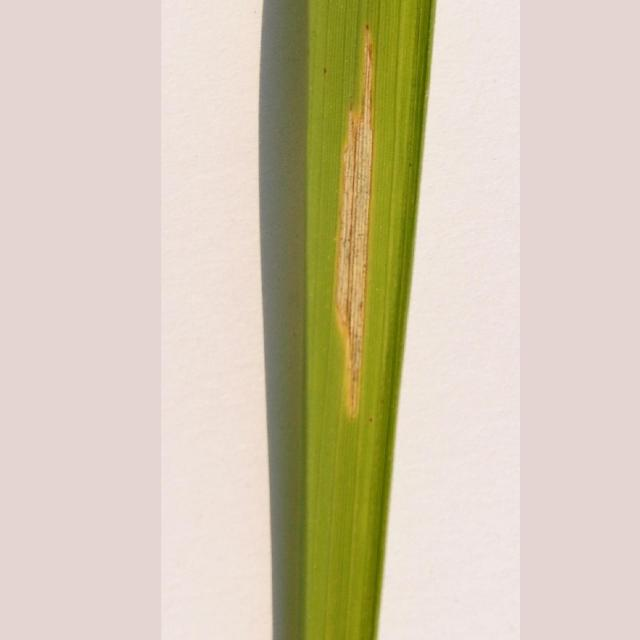Bacterial leaf blight: (297, 0, 438, 640)
